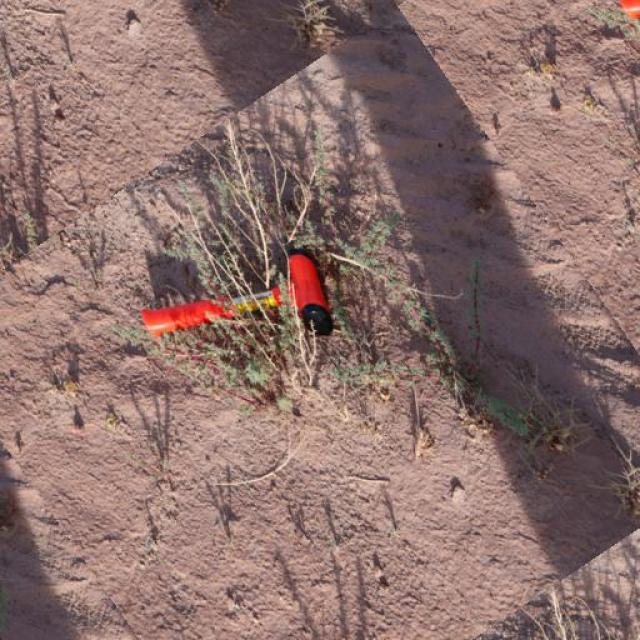mallet: (138, 248, 334, 338)
